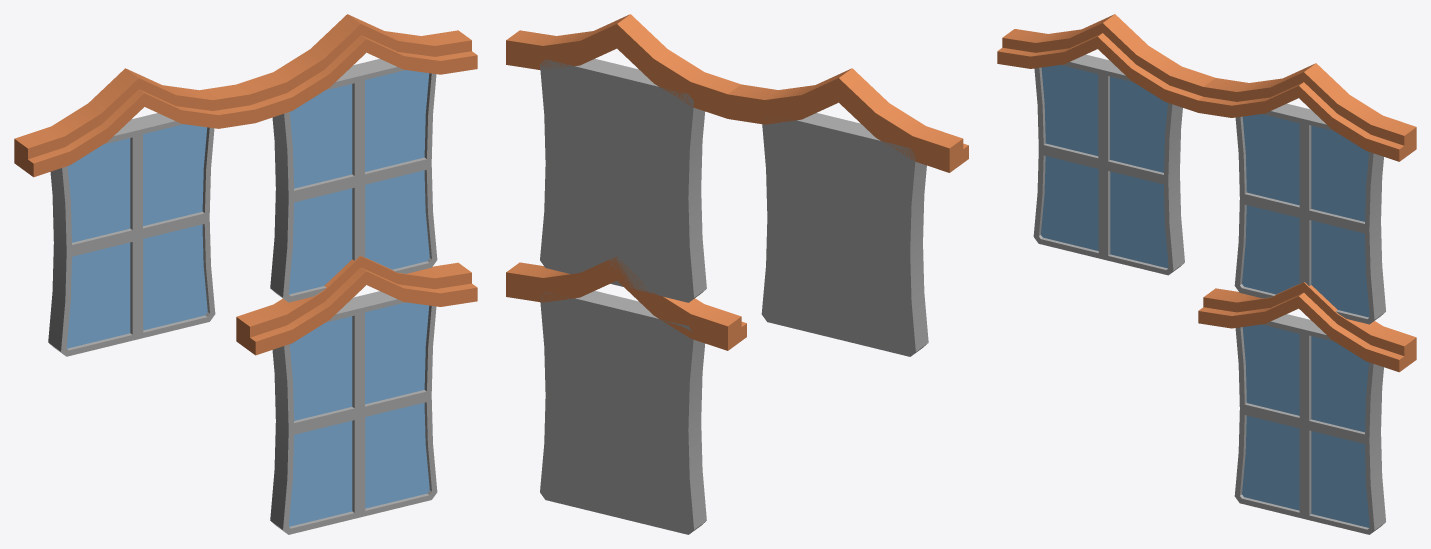
The model's file is Test_tourtour4.glb.
3 views of the same model, side by side, from view 1: azimuth 30°, elevation 25°; view 2: azimuth 150°, elevation 25°; view 3: azimuth 330°, elevation 25° (orthographic). The views are drawn at different scales.
Visible parts, largest first — view 1: Window (×3); view 2: Window (×3); view 3: Window (×3).
Boxes of the visible parts, x1,y1,x2,y2 form: Window (×3): (14, 14, 477, 534); Window (×3): (506, 14, 968, 534); Window (×3): (997, 14, 1416, 534).
Bounding box in the file's own units: 4 × 4.25 × 0.3.
